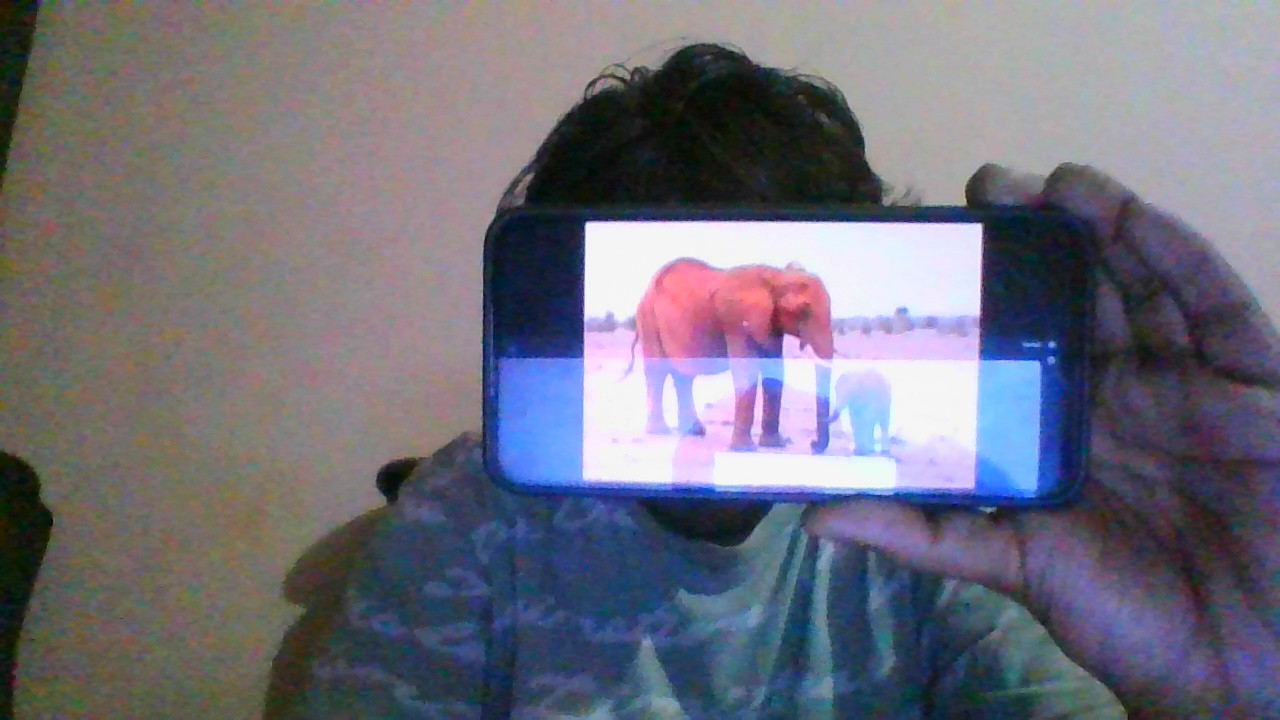elephant: (624, 258, 833, 452), (828, 369, 891, 454)
